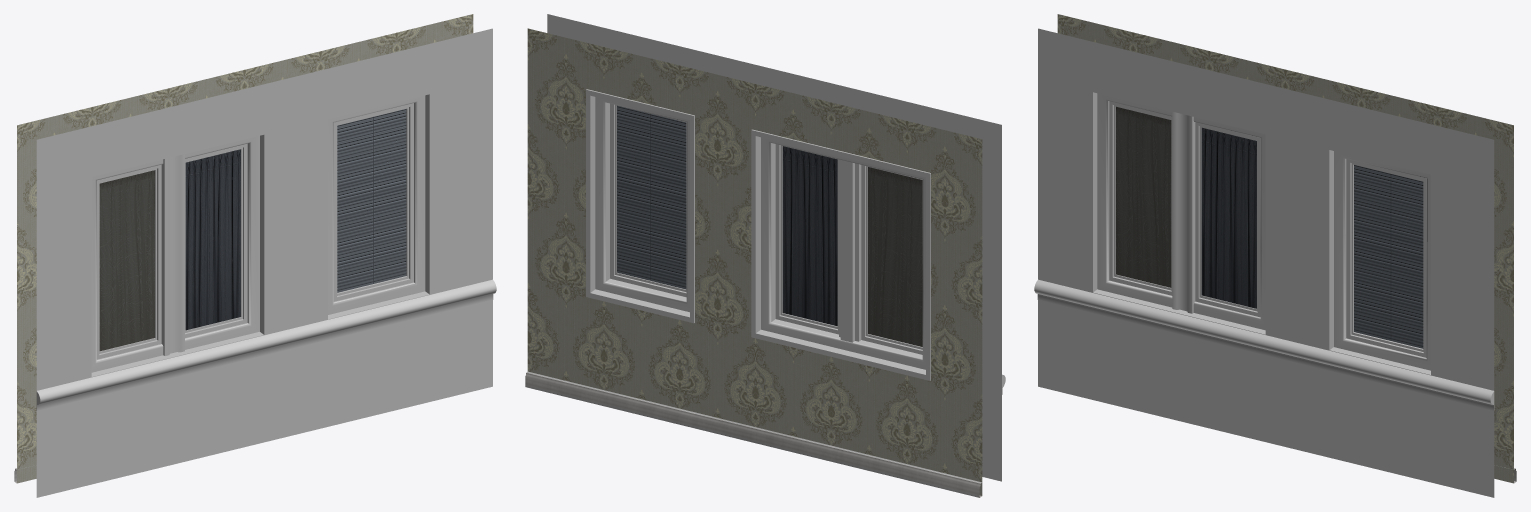
The model's file is House_05_Window_02.fbx.
The picture shows the model from 3 angles, left to right: view 1: azimuth 30°, elevation 25°; view 2: azimuth 150°, elevation 25°; view 3: azimuth 330°, elevation 25°; orthographic projection.
Parts seen in each view (by area): view 1: House_05_Window_02_LOD0; view 2: House_05_Window_02_LOD0; view 3: House_05_Window_02_LOD0.
Part boxes in pixels (left/top/right/bottom): House_05_Window_02_LOD0: left=14, top=14, right=496, bottom=497; House_05_Window_02_LOD0: left=525, top=14, right=1005, bottom=497; House_05_Window_02_LOD0: left=1034, top=14, right=1516, bottom=497.
Size of what is drawn, in the model's own units: 400 by 300 by 39.57.
